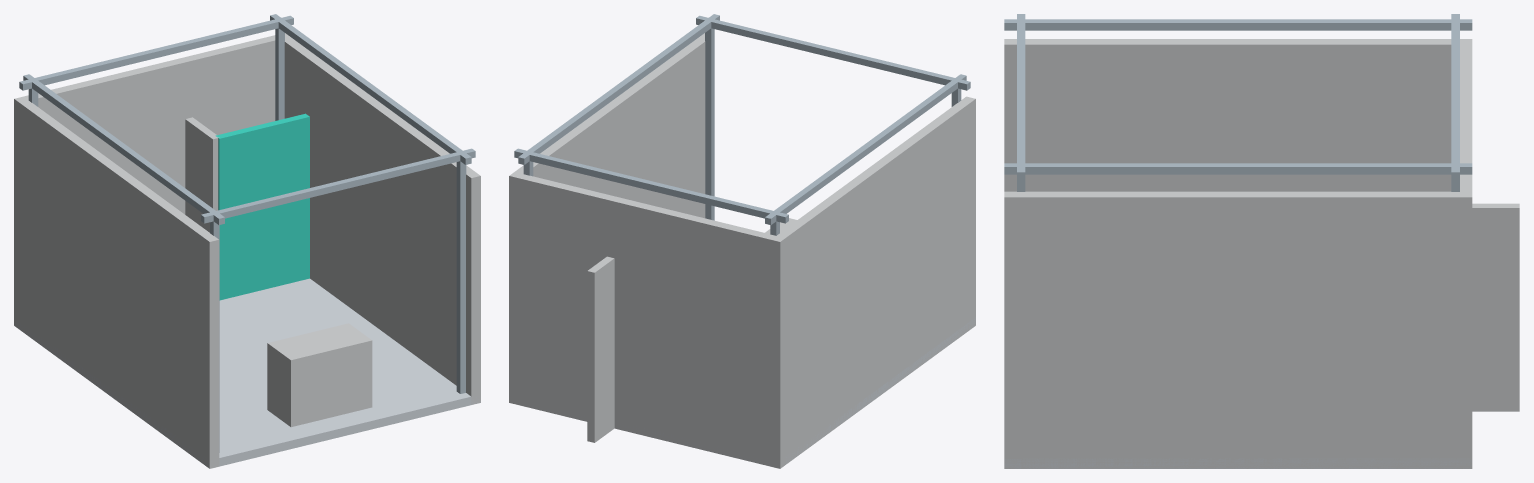
3 renders of one model, left to right at view 1: azimuth 30°, elevation 25°; view 2: azimuth 150°, elevation 25°; view 3: azimuth 270°, elevation 25°, orthographic. The views are drawn at different scales.
Parts seen in each view (by area): view 1: Exhibition Booth Concept; view 2: Exhibition Booth Concept; view 3: Exhibition Booth Concept.
Part boxes in pixels (x1,y1,x2,y2): Exhibition Booth Concept: (14,14,480,468); Exhibition Booth Concept: (509,14,975,468); Exhibition Booth Concept: (1004,14,1519,468).
Size of the model in its own units: 4 by 3.49 by 5.51.
